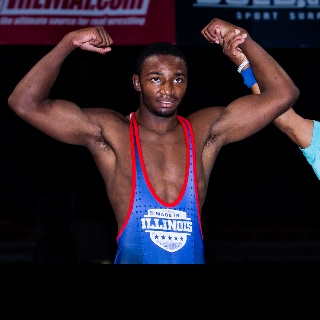without_mask: (139, 53, 188, 115)
